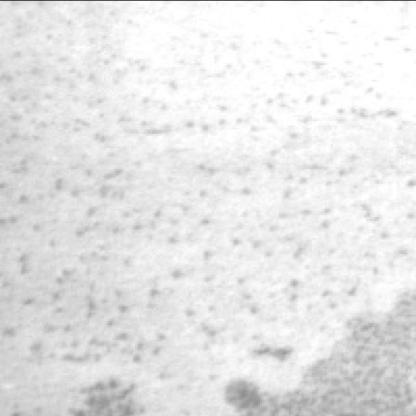pitted_surface: (0, 4, 414, 412)
